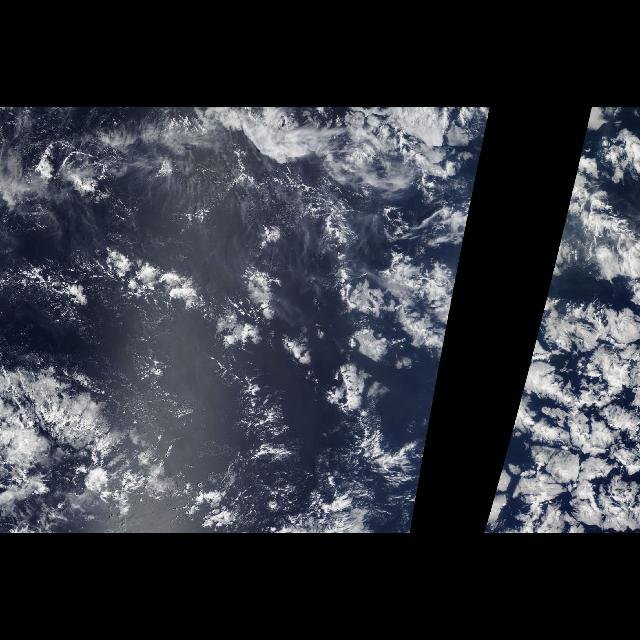Flower: (234, 214, 472, 534), (483, 214, 639, 534)
